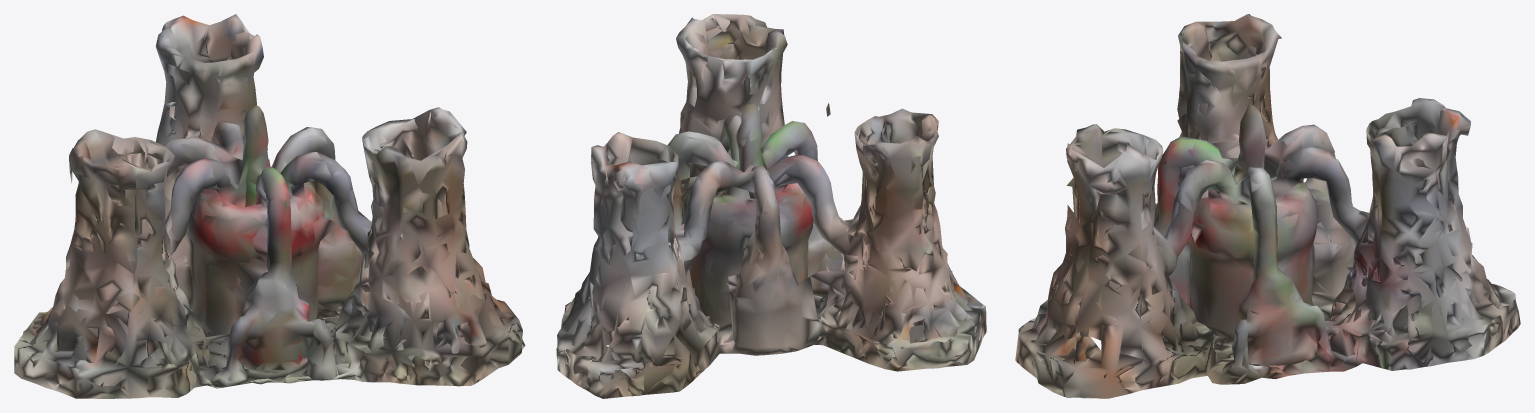
The model's file is soviet_nuclear_reactor.glb.
3 views of the same model, side by side, from view 1: azimuth 30°, elevation 25°; view 2: azimuth 150°, elevation 25°; view 3: azimuth 270°, elevation 25° (orthographic). The views are drawn at different scales.
Parts seen in each view (by area): view 1: soviet_nuclear_reactor; view 2: soviet_nuclear_reactor; view 3: soviet_nuclear_reactor.
Boxes of the visible parts, left/top/right/bottom form: soviet_nuclear_reactor: left=14, top=14, right=525, bottom=398; soviet_nuclear_reactor: left=556, top=14, right=986, bottom=398; soviet_nuclear_reactor: left=1015, top=14, right=1520, bottom=398.
Bounding box in the file's own units: 2.02 × 1.12 × 2.19.
